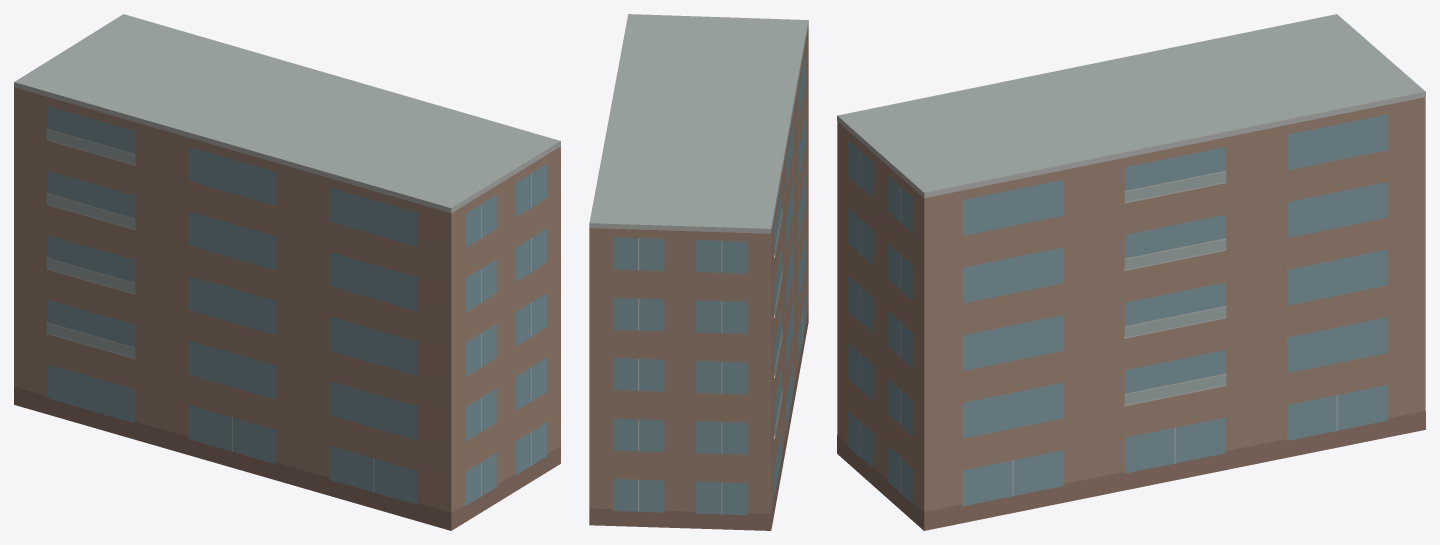
File: survey-upis-32697970.glb
The picture shows the model from 3 angles, left to right: view 1: azimuth 30°, elevation 25°; view 2: azimuth 150°, elevation 25°; view 3: azimuth 270°, elevation 25°; orthographic projection. The views are drawn at different scales.
Parts seen in each view (by area): view 1: survey-upis-32697970.tmp; view 2: survey-upis-32697970.tmp; view 3: survey-upis-32697970.tmp.
Part boxes in pixels (bbox=[...]): survey-upis-32697970.tmp: bbox=[14, 14, 560, 530]; survey-upis-32697970.tmp: bbox=[589, 14, 808, 530]; survey-upis-32697970.tmp: bbox=[837, 14, 1425, 530].
Size of the model in its own units: 17.31 by 15.25 by 24.07.
